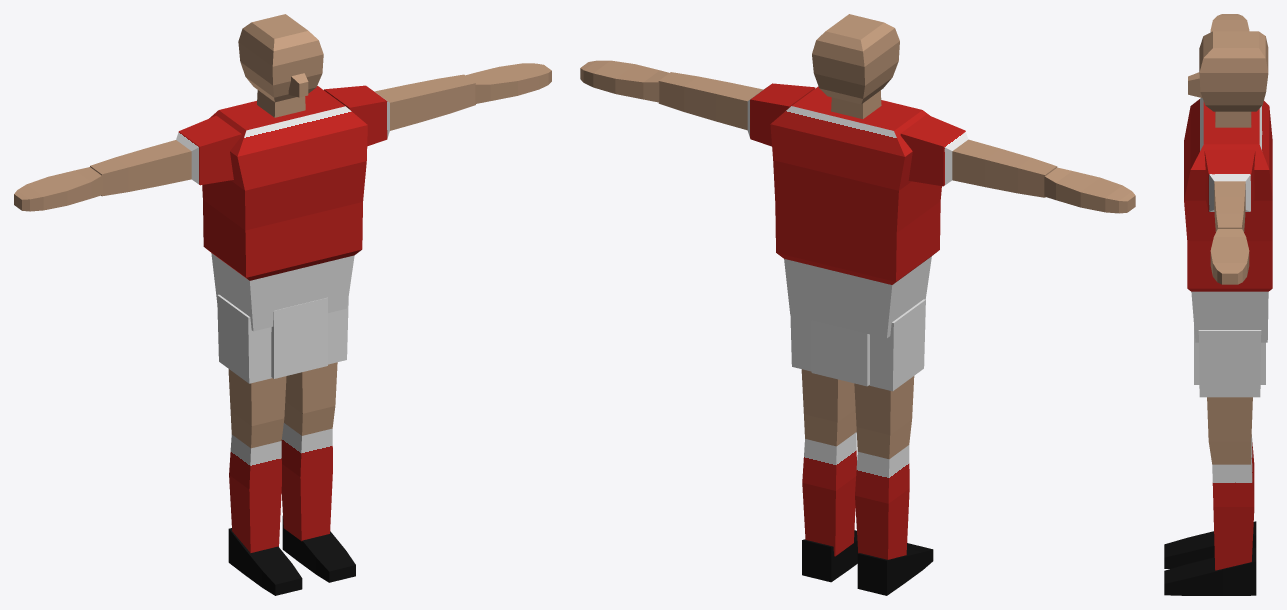
Rendered from player-welded-for-mixamo.fbx.
The picture shows the model from 3 angles, left to right: view 1: azimuth 30°, elevation 25°; view 2: azimuth 150°, elevation 25°; view 3: azimuth 270°, elevation 25°; orthographic projection. The views are drawn at different scales.
Parts seen in each view (by area): view 1: PlayerWelded; view 2: PlayerWelded; view 3: PlayerWelded.
Part boxes in pixels (x1=…): PlayerWelded: x1=14, y1=14, x2=551, y2=595; PlayerWelded: x1=580, y1=14, x2=1135, y2=595; PlayerWelded: x1=1164, y1=14, x2=1272, y2=595.
Size of the model in its own units: 187 by 180 by 33.
